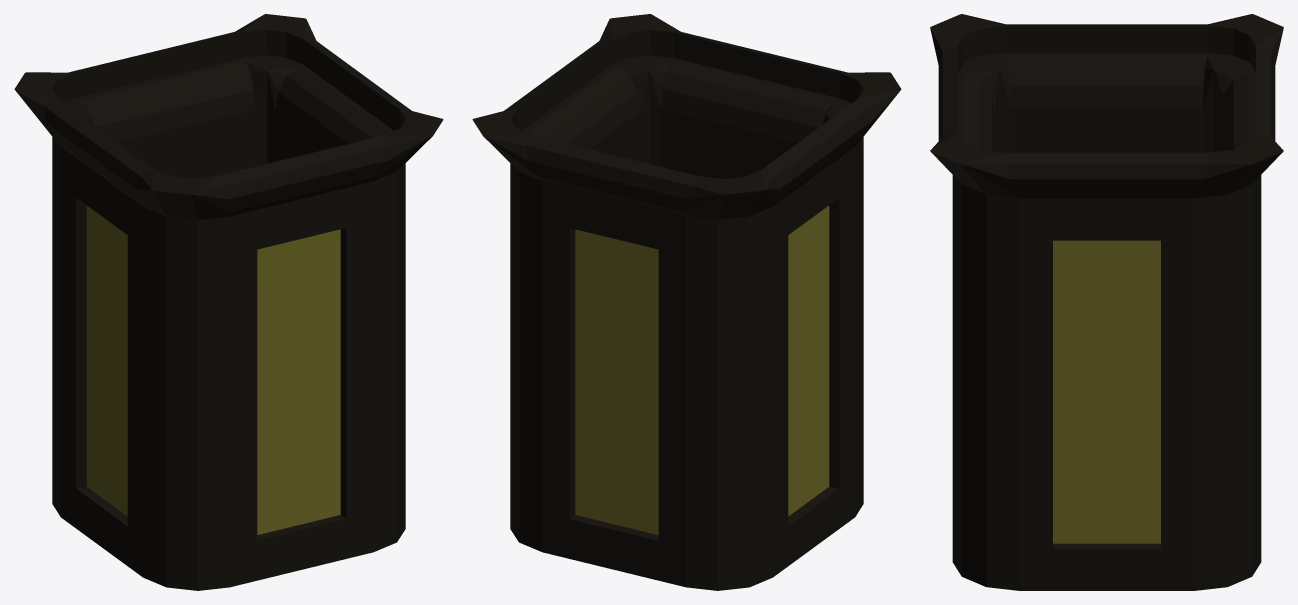
File: Trashcan.fbx
3 views of the same model, side by side, from view 1: azimuth 30°, elevation 25°; view 2: azimuth 150°, elevation 25°; view 3: azimuth 270°, elevation 25° (orthographic). The views are drawn at different scales.
Parts seen in each view (by area): view 1: Cube.007; view 2: Cube.007; view 3: Cube.007.
Boxes of the visible parts, bbox=[...] form: Cube.007: bbox=[14, 14, 443, 590]; Cube.007: bbox=[472, 14, 901, 590]; Cube.007: bbox=[930, 14, 1283, 590].
Bounding box in the file's own units: 164 × 222 × 163.
